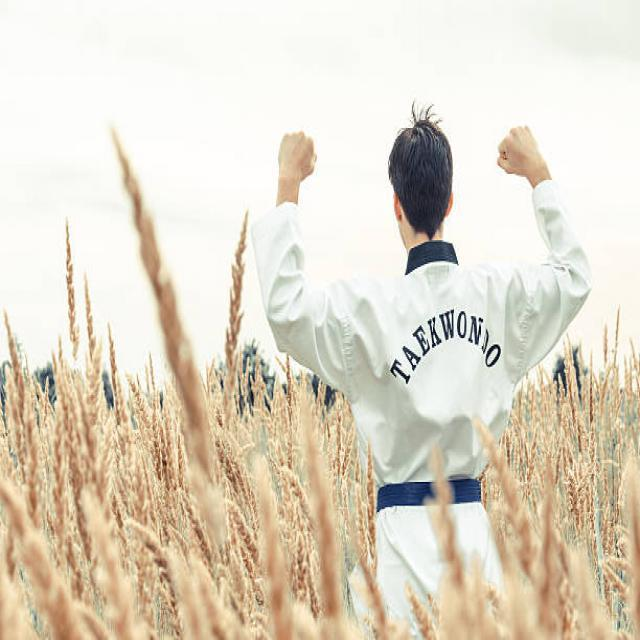no helmet: (375, 118, 472, 248)
